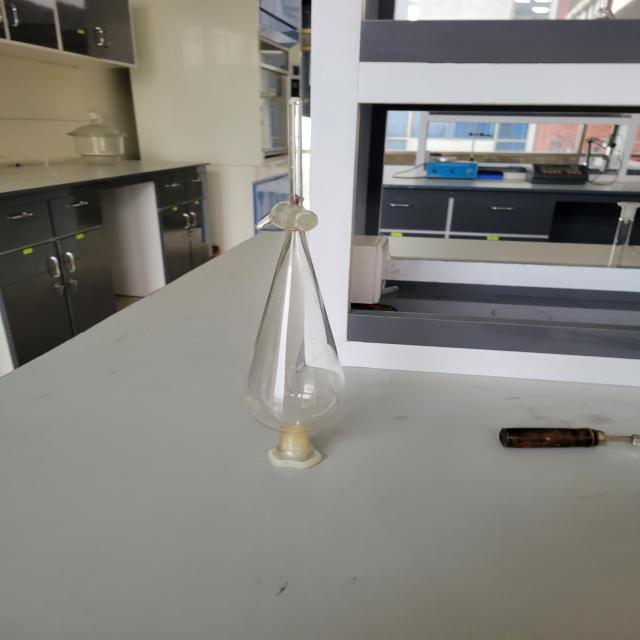Separating_Funnel: (239, 44, 377, 524)
